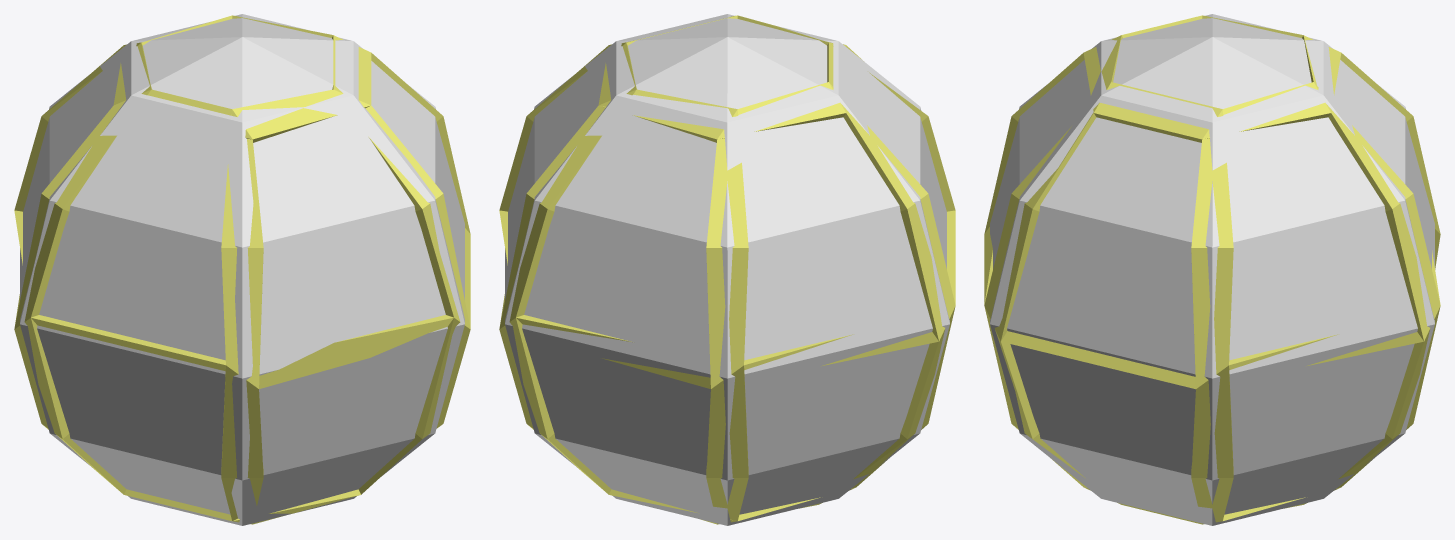
Rendered from Electric.Big.01.fbx.
The picture shows the model from 3 angles, left to right: view 1: azimuth 30°, elevation 25°; view 2: azimuth 150°, elevation 25°; view 3: azimuth 270°, elevation 25°; orthographic projection.
Parts seen in each view (by area): view 1: A.Electric.Big.01, B.Electric.Big.01; view 2: A.Electric.Big.01, B.Electric.Big.01; view 3: A.Electric.Big.01, B.Electric.Big.01.
Part boxes in pixels (bbox=[...]): A.Electric.Big.01: bbox=[20, 14, 464, 525]; B.Electric.Big.01: bbox=[14, 15, 470, 524]; A.Electric.Big.01: bbox=[505, 14, 949, 525]; B.Electric.Big.01: bbox=[499, 15, 955, 524]; A.Electric.Big.01: bbox=[990, 14, 1434, 525]; B.Electric.Big.01: bbox=[984, 15, 1440, 524].
Size of the model in its own units: 300 by 300 by 266.
